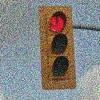traffic lights: (39, 6, 75, 84)
